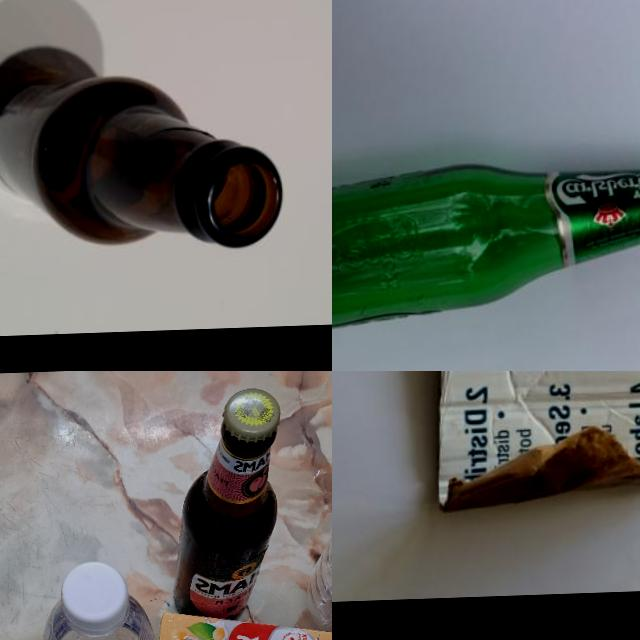caixinha: (135, 608, 332, 640)
garrafa de vidro: (332, 154, 640, 347), (0, 68, 284, 259), (164, 381, 286, 623)
garrafa plástica: (297, 440, 332, 640), (39, 595, 161, 640)
papelão: (428, 371, 640, 515)
tampa plástica: (64, 562, 124, 632)
